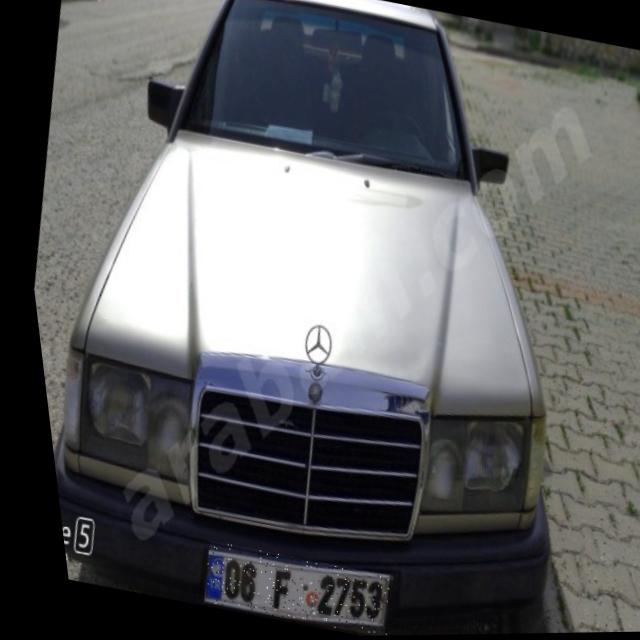license_plate: (183, 539, 383, 638)
